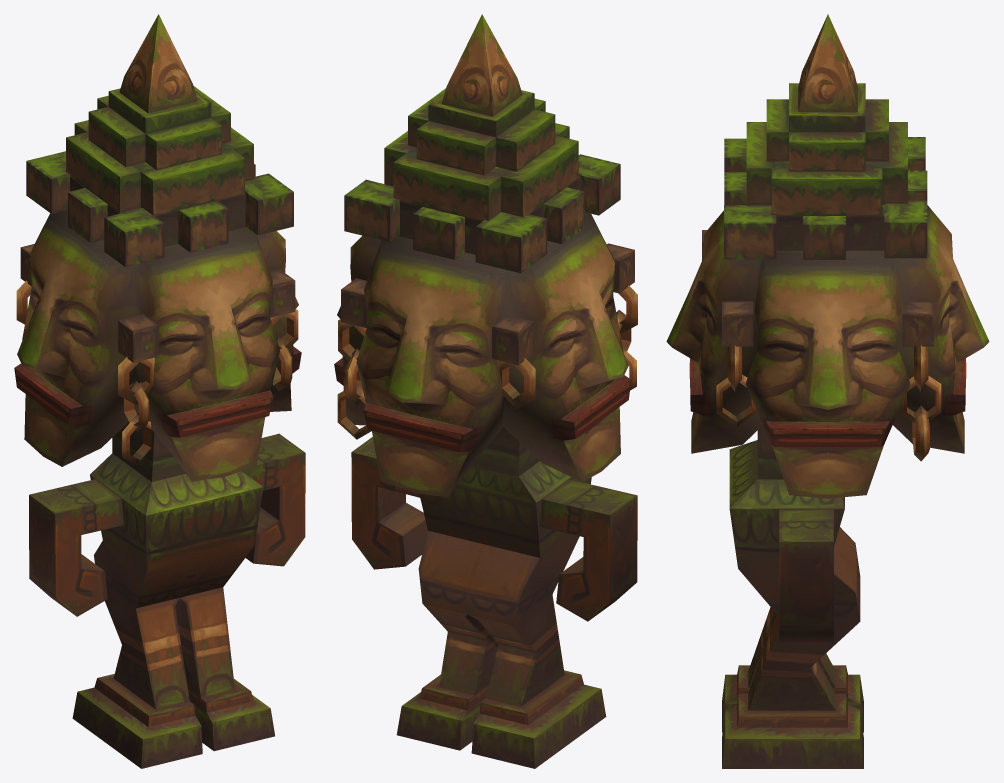
File: xiuluoshixiang01.FBX
3 renders of one model, left to right at view 1: azimuth 30°, elevation 25°; view 2: azimuth 150°, elevation 25°; view 3: azimuth 270°, elevation 25°, orthographic. The views are drawn at different scales.
Parts seen in each view (by area): view 1: xiuluoshixiang01; view 2: xiuluoshixiang01; view 3: xiuluoshixiang01.
Boxes of the visible parts, box(x1,y1,x2,y2) form: xiuluoshixiang01: box(14, 14, 305, 768); xiuluoshixiang01: box(334, 14, 637, 768); xiuluoshixiang01: box(666, 14, 989, 768).
Bounding box in the file's own units: 146 × 146 × 359.
